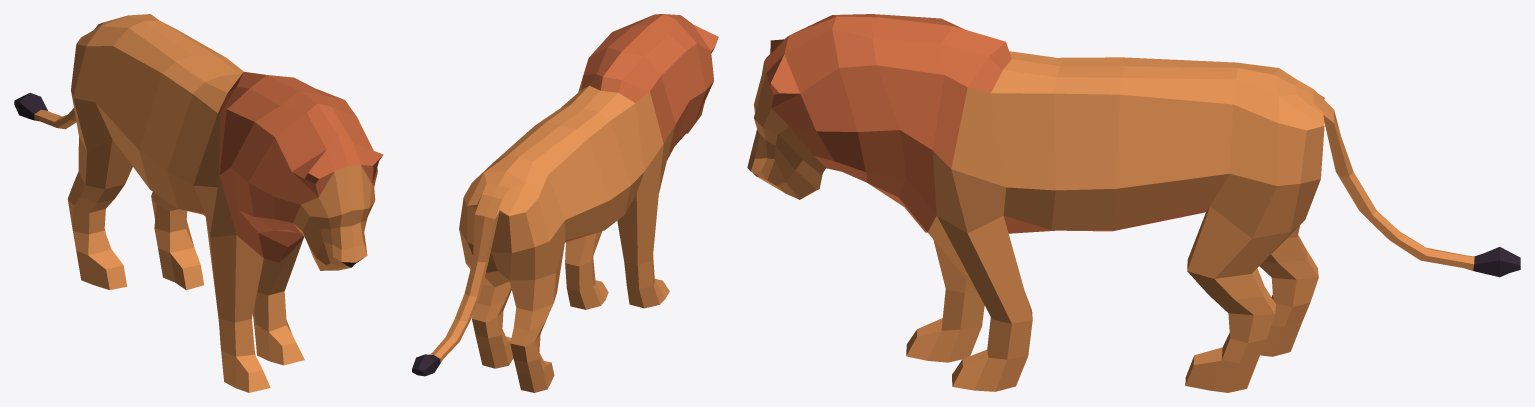
Rendered from Löwe1.fbx.
3 views of the same model, side by side, from view 1: azimuth 30°, elevation 25°; view 2: azimuth 150°, elevation 25°; view 3: azimuth 270°, elevation 25° (orthographic). The views are drawn at different scales.
Visible parts, largest first — view 1: Löwe.003; view 2: Löwe.003; view 3: Löwe.003.
Boxes of the visible parts, <box> form: Löwe.003: <box>14,14,383,392</box>; Löwe.003: <box>412,14,718,392</box>; Löwe.003: <box>747,14,1520,392</box>.
Bounding box in the file's own units: 0.6618 × 1.6 × 3.21.
